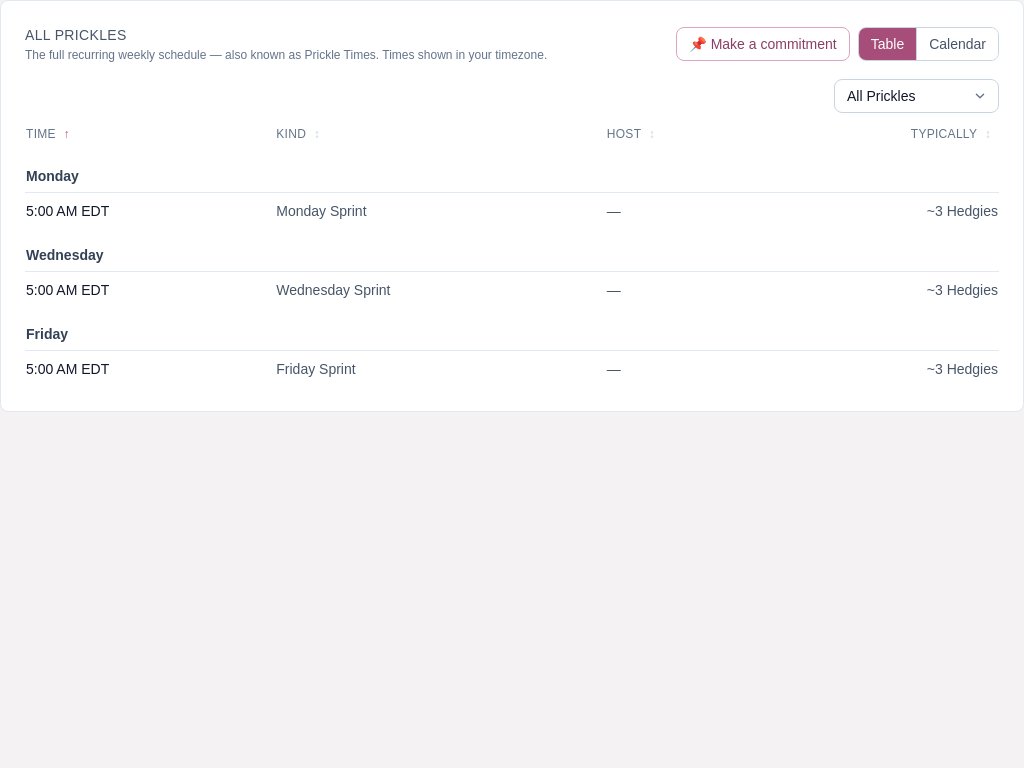
it: All Prickles commit mode › shows no checkboxes or panel until the member starts a commitment
The image size is (1024, 768).
Click the button "📌 Make a commitment" at x=763, y=44, box [676, 27, 850, 61]
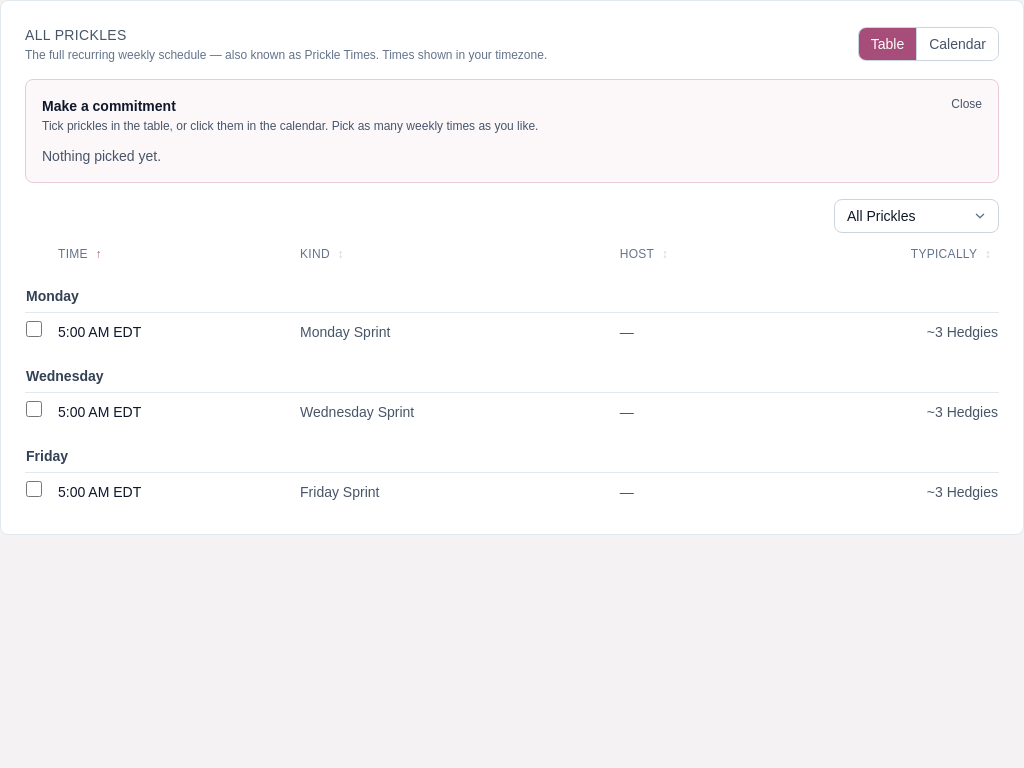
Expected: the number of checkboxes is 3, [26, 321, 42, 337]; [26, 401, 42, 417]; [26, 481, 42, 497]
Expected: the text "Nothing picked yet." is shown, [42, 148, 161, 164]
